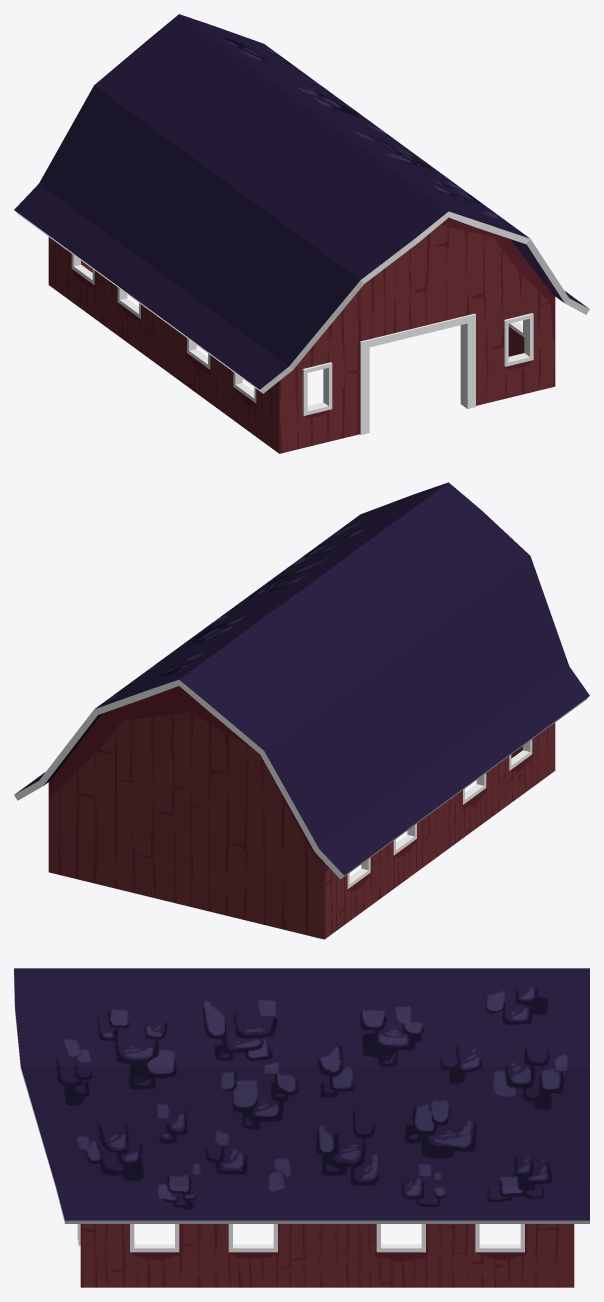
File: Barn.fbx
The picture shows the model from 3 angles, top to bottom: view 1: azimuth 30°, elevation 25°; view 2: azimuth 150°, elevation 25°; view 3: azimuth 270°, elevation 25°; orthographic projection. The views are drawn at different scales.
Visible parts, largest first — view 1: Cube; view 2: Cube; view 3: Cube.
Boxes of the visible parts, x1,y1,x2,y2 form: Cube: (14, 14, 589, 453); Cube: (14, 482, 589, 939); Cube: (14, 968, 589, 1287).
Size of the model in its own units: 1551 by 1040 by 2193.
1 material, 1 textured.
